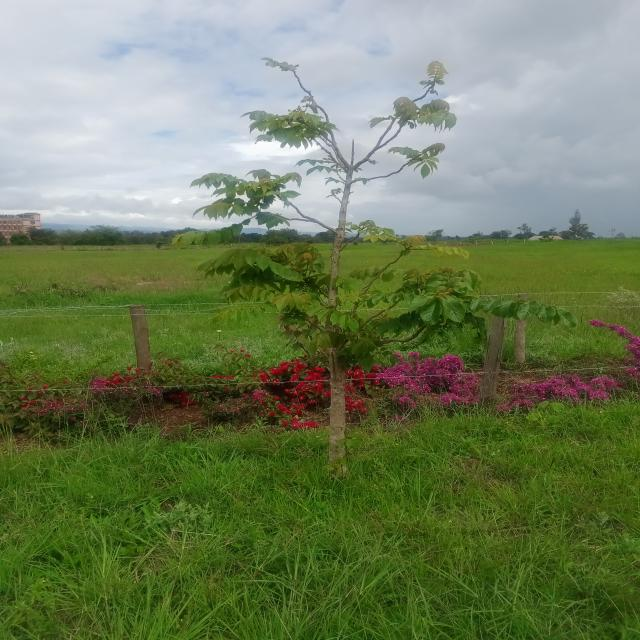Polyscias Kikuyensis: (175, 47, 582, 466)
